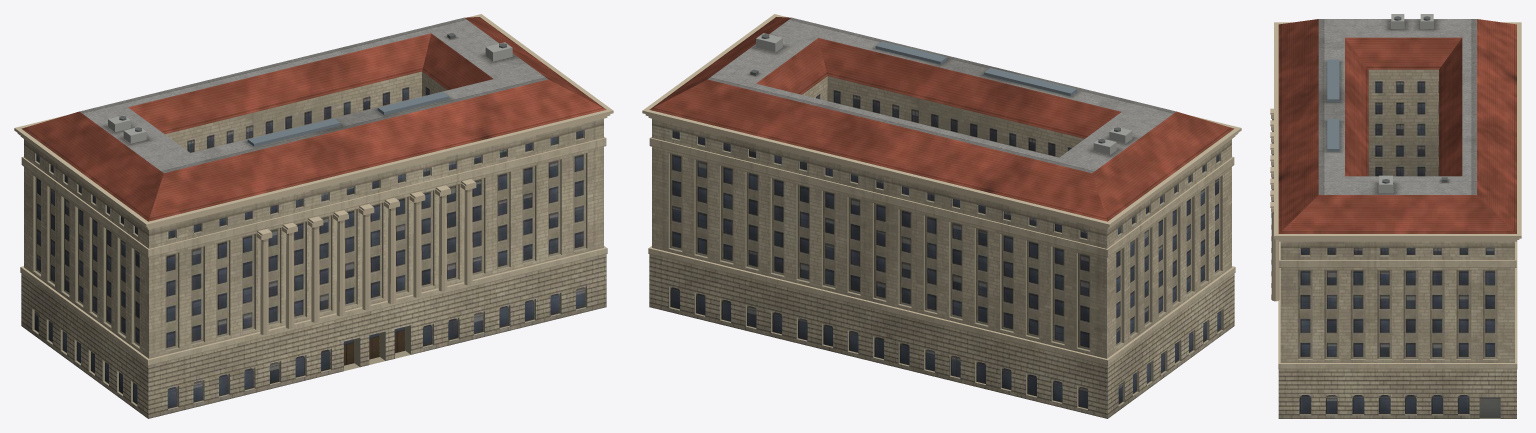
The model's file is dc_fedtri_c.glb.
3 renders of one model, left to right at view 1: azimuth 30°, elevation 25°; view 2: azimuth 150°, elevation 25°; view 3: azimuth 270°, elevation 25°, orthographic. The views are drawn at different scales.
Parts seen in each view (by area): view 1: dc_fedtri_c; view 2: dc_fedtri_c; view 3: dc_fedtri_c.
Boxes of the visible parts, x1,y1,x2,y2 form: dc_fedtri_c: [14, 14, 613, 418]; dc_fedtri_c: [642, 14, 1241, 418]; dc_fedtri_c: [1270, 14, 1521, 418].
Bounding box in the file's own units: 86.2 × 40.85 × 42.82.
1 material, 1 textured.
